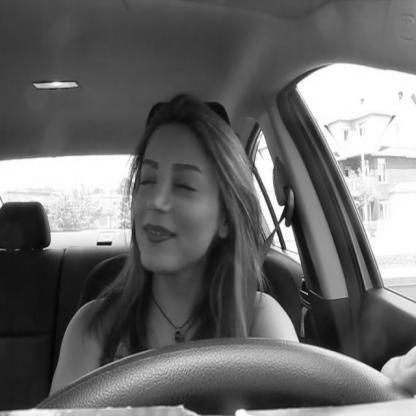seatbelt: (126, 88, 303, 416)
